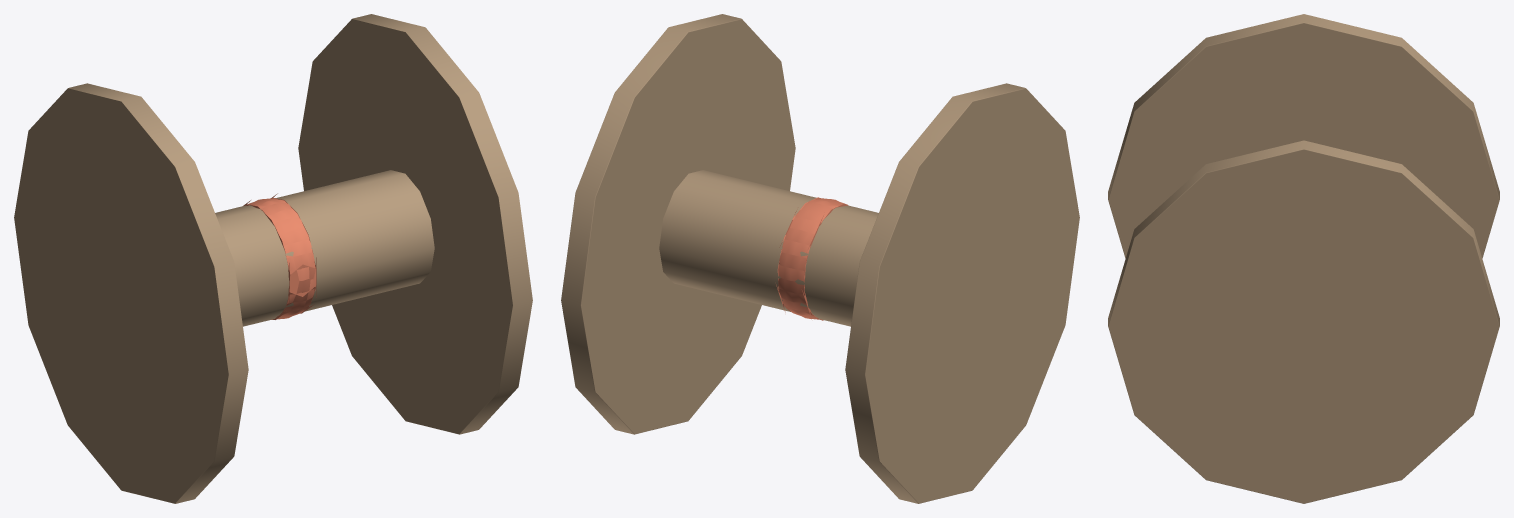
File: cable_spool.glb
3 renders of one model, left to right at view 1: azimuth 30°, elevation 25°; view 2: azimuth 150°, elevation 25°; view 3: azimuth 270°, elevation 25°, orthographic. The views are drawn at different scales.
Parts seen in each view (by area): view 1: cable_spool; view 2: cable_spool; view 3: cable_spool.
Boxes of the visible parts, x1=… form: cable_spool: x1=14, y1=14, x2=532, y2=503; cable_spool: x1=561, y1=14, x2=1079, y2=503; cable_spool: x1=1108, y1=14, x2=1499, y2=503.
Size of the model in its own units: 0.9 by 1.1 by 1.1.
